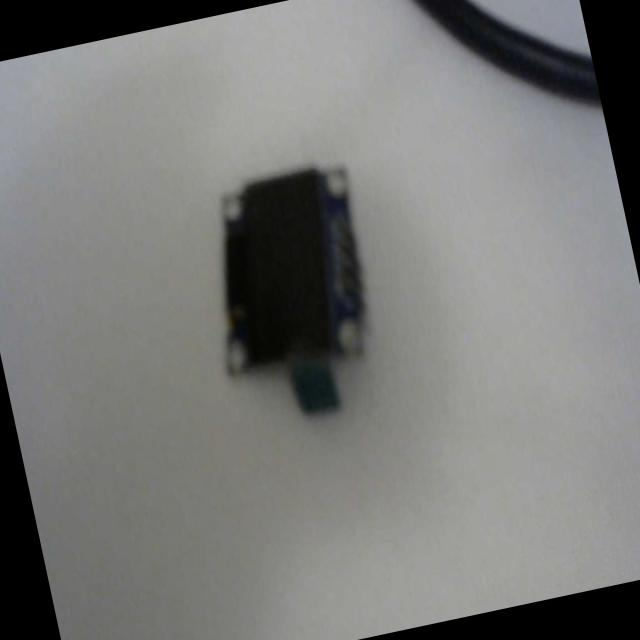oled: (182, 154, 398, 432)
